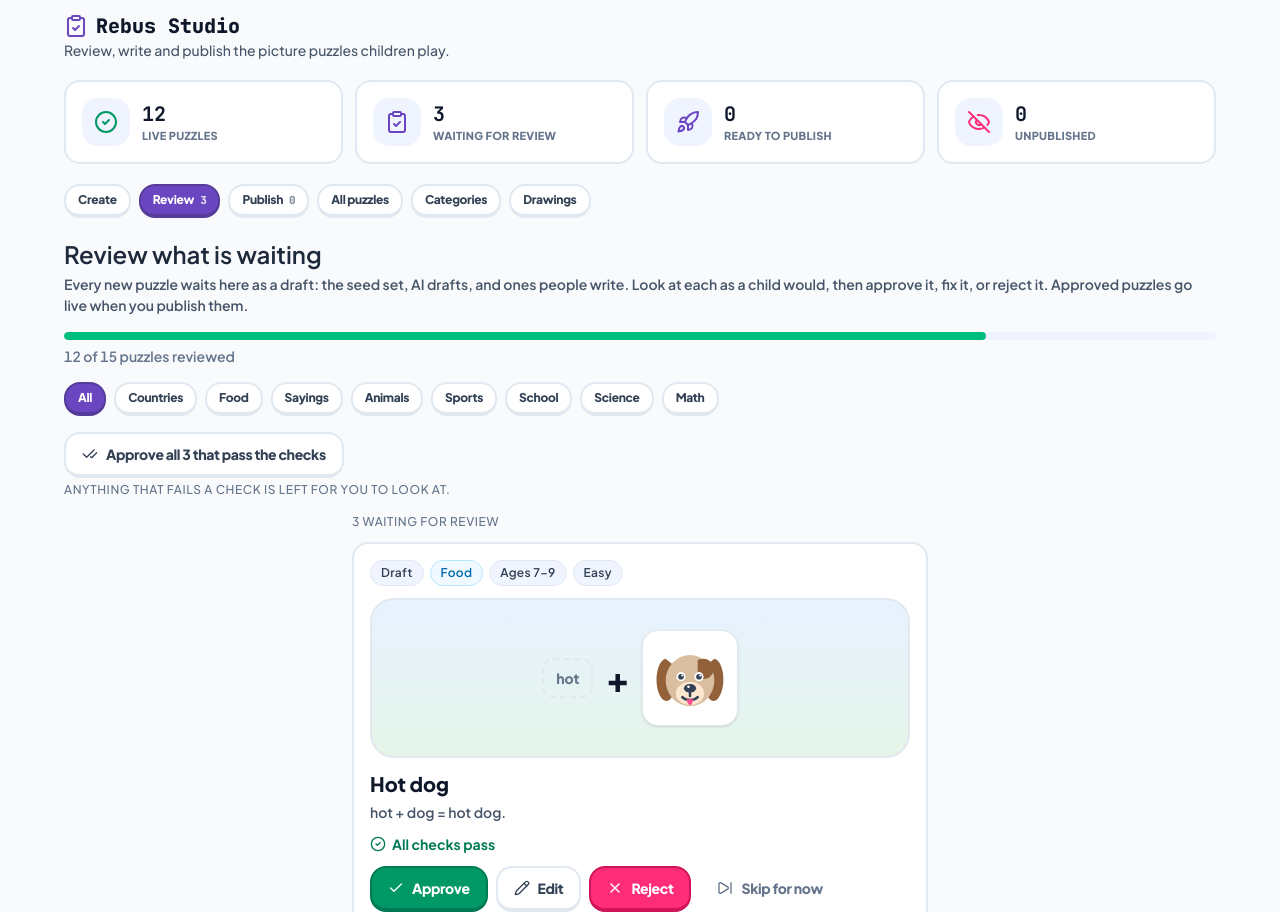
Scenario: reviewing what is waiting › approves everything in view that passes the checks, in one click, and says what it left
The width and height of the screenshot is (1280, 912).
Click the button "Approve all 3 that pass the checks": (204, 455) [64,432,344,478]
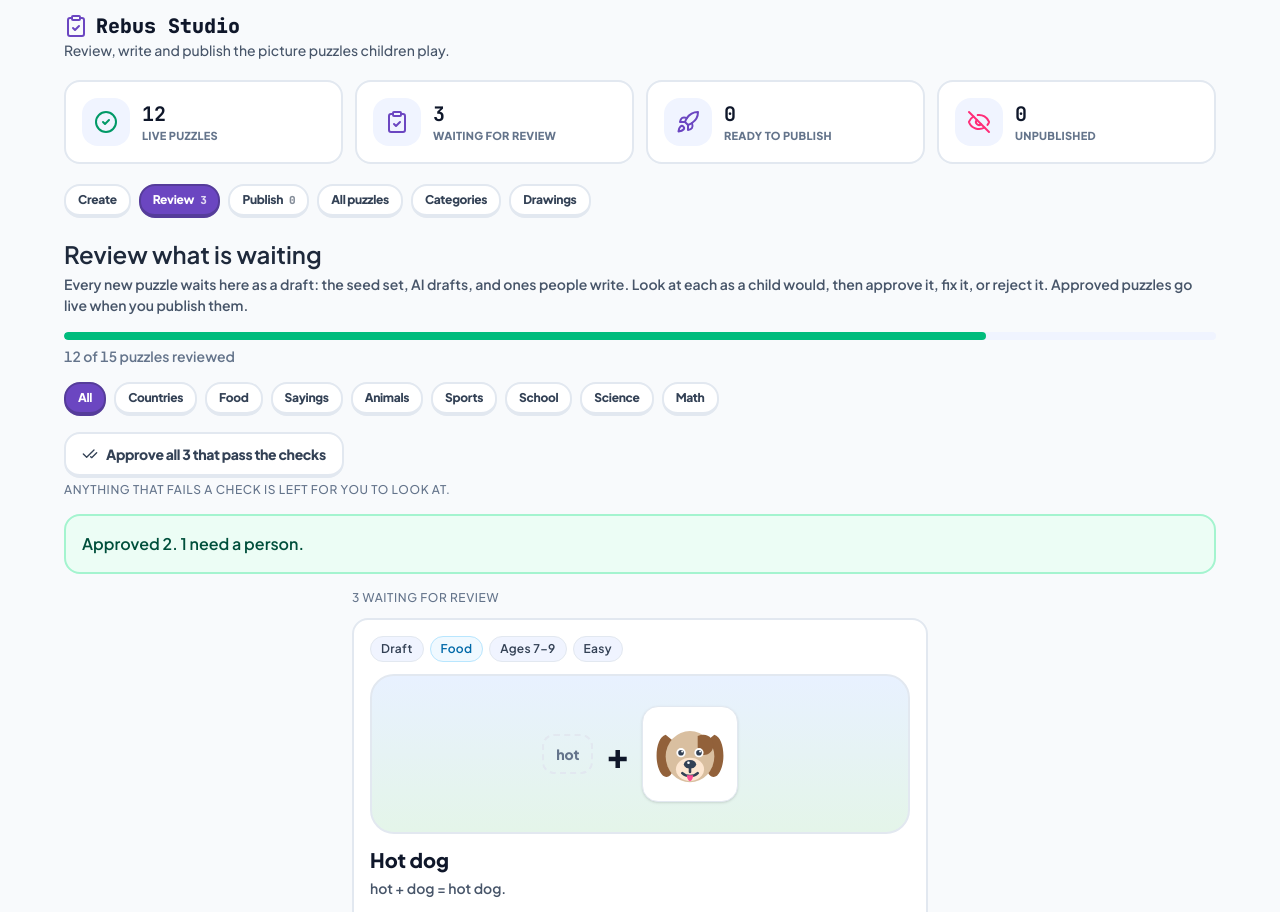
Expected: the text "Approved 2. 1 need a person." is shown, [64,514,1216,574]
